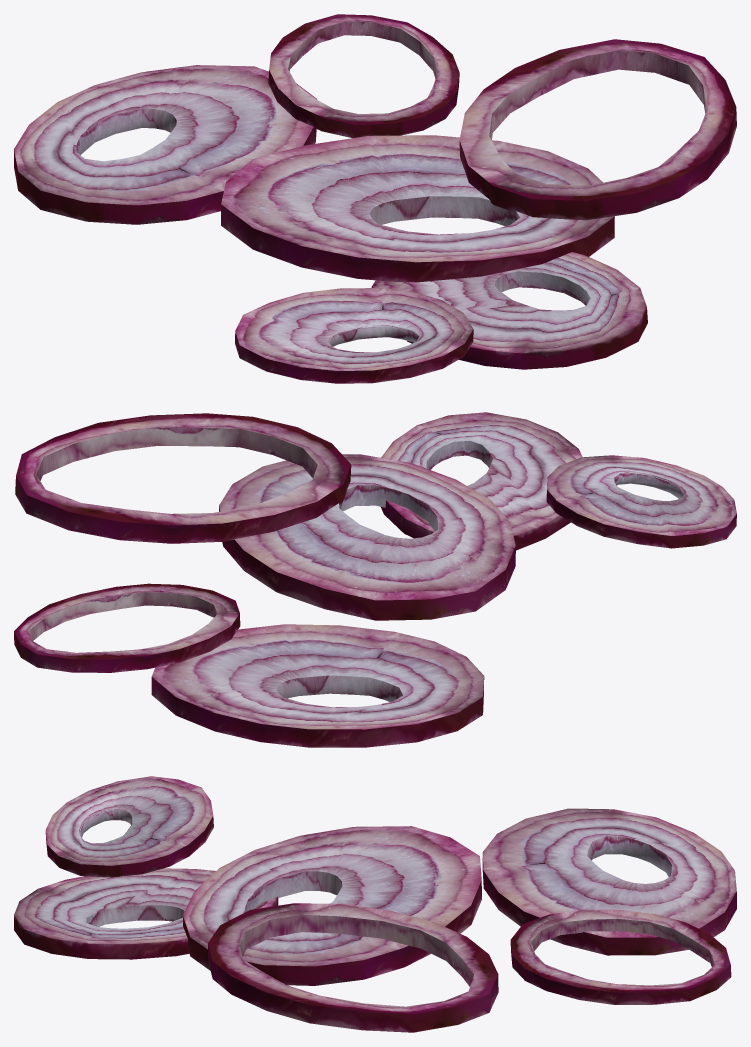
Rendered from Onion.FBX.
The picture shows the model from 3 angles, top to bottom: view 1: azimuth 30°, elevation 25°; view 2: azimuth 150°, elevation 25°; view 3: azimuth 270°, elevation 25°; orthographic projection. The views are drawn at different scales.
Visible parts, largest first — view 1: onion; view 2: onion; view 3: onion.
Part boxes in pixels (box(x1,y1,x2,y2)): onion: box(14, 14, 736, 383); onion: box(14, 412, 736, 747); onion: box(14, 776, 736, 1032).
Size of the model in its own units: 8.64 by 1.01 by 9.78.
1 material, 1 textured.
